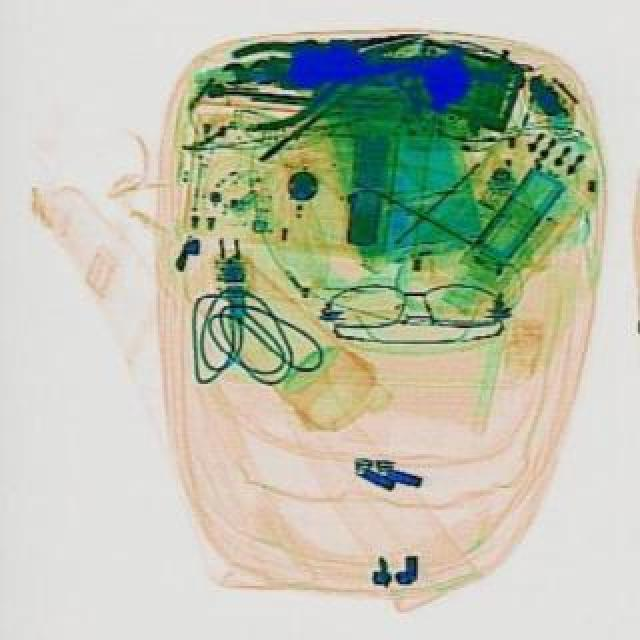scissors: (222, 52, 334, 92)
wrench: (218, 2, 430, 138)
